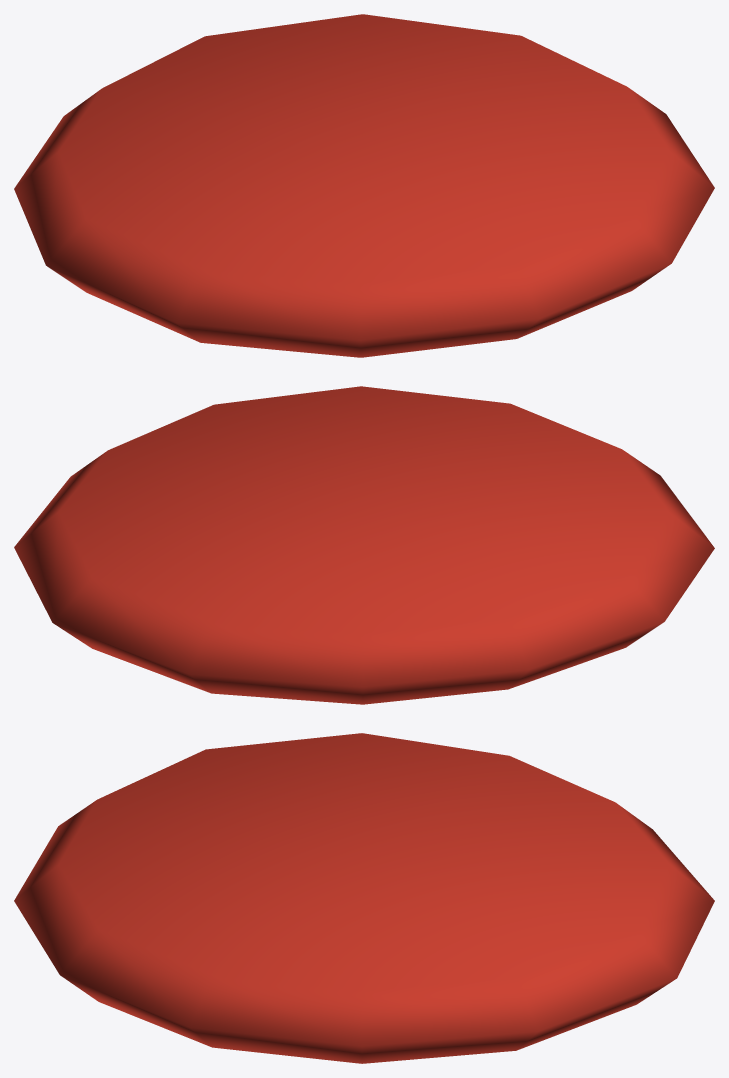
Rendered from rodaja_tomate.glb.
3 renders of one model, top to bottom at view 1: azimuth 30°, elevation 25°; view 2: azimuth 150°, elevation 25°; view 3: azimuth 270°, elevation 25°, orthographic. The views are drawn at different scales.
Visible parts, largest first — view 1: rodaja_tomate; view 2: rodaja_tomate; view 3: rodaja_tomate.
Part boxes in pixels (left/top/right/bottom): rodaja_tomate: left=14, top=14, right=714, bottom=357; rodaja_tomate: left=14, top=386, right=714, bottom=704; rodaja_tomate: left=14, top=733, right=714, bottom=1063.
Bounding box in the file's own units: 0.07 × 0.008 × 0.07.
